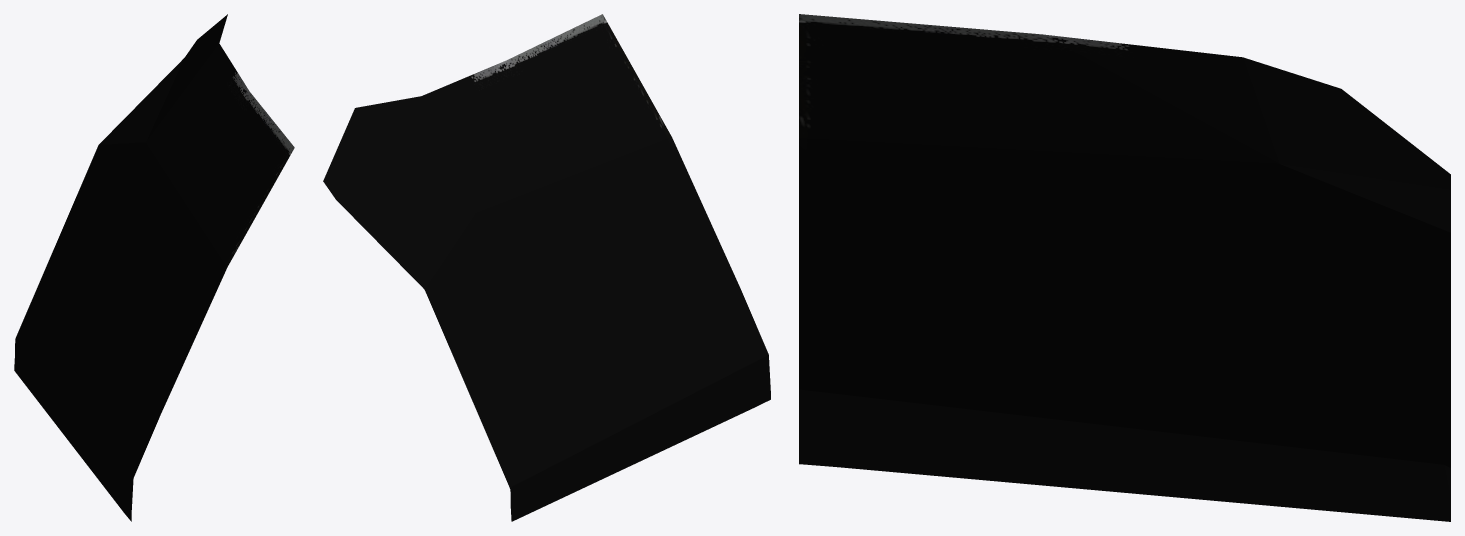
The picture shows the model from 3 angles, left to right: view 1: azimuth 30°, elevation 25°; view 2: azimuth 150°, elevation 25°; view 3: azimuth 270°, elevation 25°; orthographic projection. The views are drawn at different scales.
Bounding box in the file's own units: 1.31 × 1.67 × 1.67.
3 materials, 3 textured.
